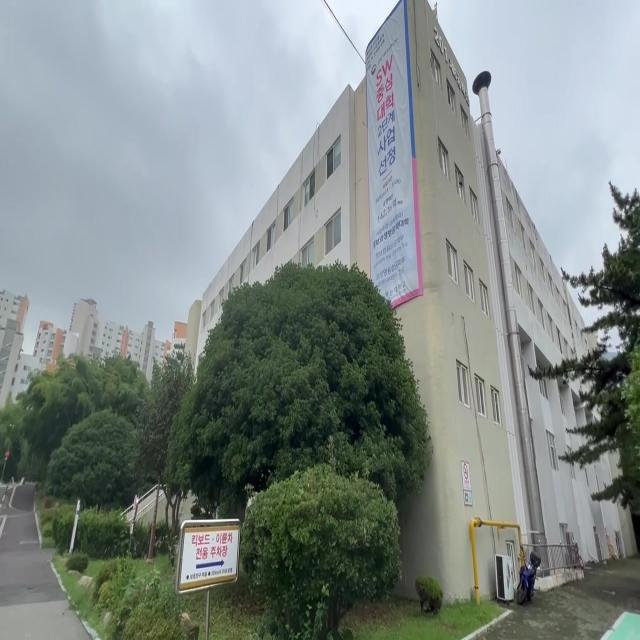building: (428, 24, 554, 556)
